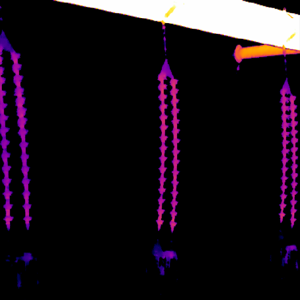insulator: (0, 46, 32, 228), (155, 71, 179, 232), (276, 86, 300, 227)
